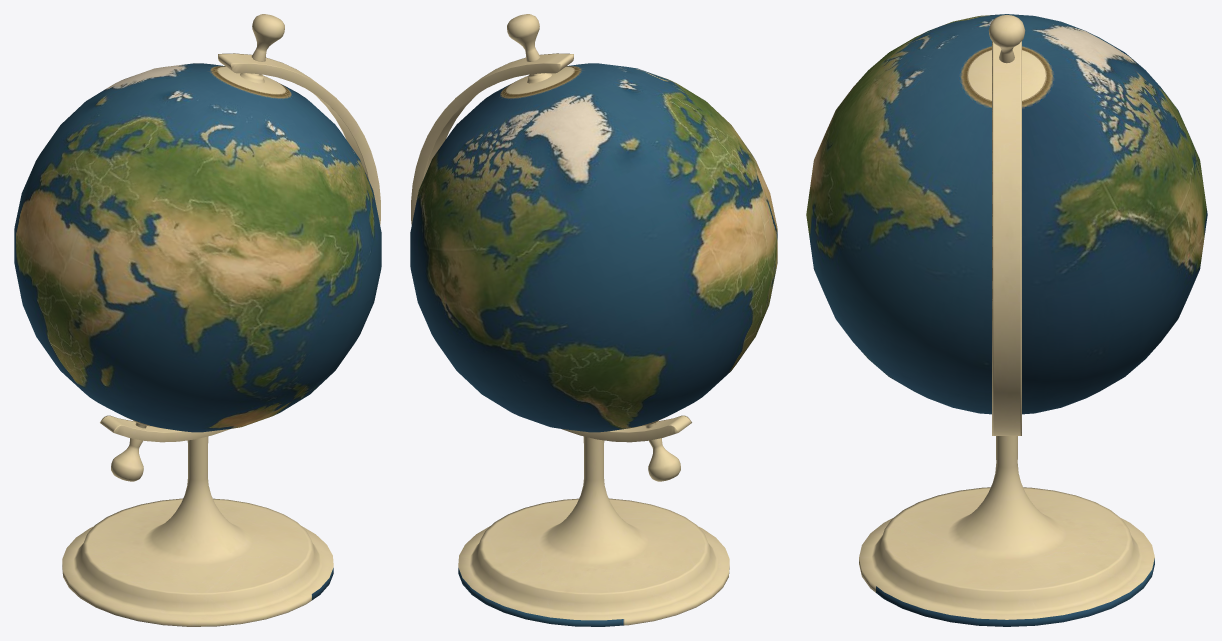
The model's file is Globe.fbx.
3 renders of one model, left to right at view 1: azimuth 30°, elevation 25°; view 2: azimuth 150°, elevation 25°; view 3: azimuth 270°, elevation 25°, orthographic. The views are drawn at different scales.
Visible parts, largest first — view 1: globe_low; view 2: globe_low; view 3: globe_low.
Boxes of the visible parts, x1=… form: globe_low: x1=14, y1=14, x2=381, y2=626; globe_low: x1=410, y1=14, x2=777, y2=626; globe_low: x1=806, y1=14, x2=1207, y2=626.
Bounding box in the file's own units: 42.01 × 64.17 × 40.
Materials: 1 (1 with a texture image).
